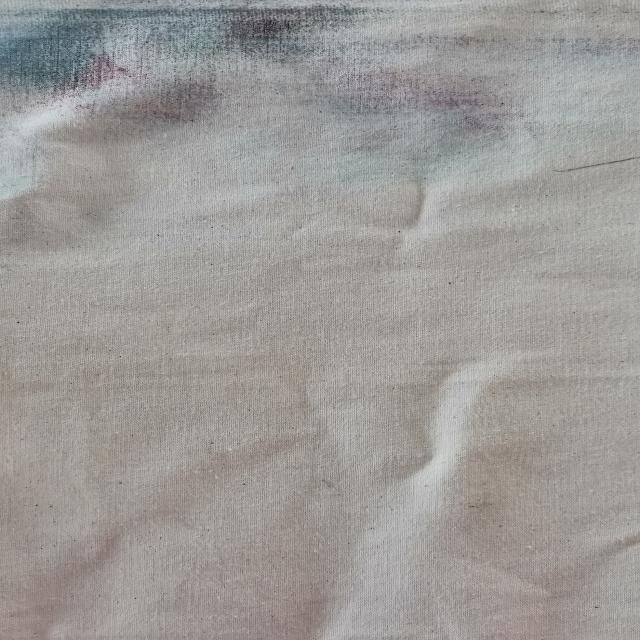taaaches: (0, 3, 571, 139), (550, 152, 636, 184)
